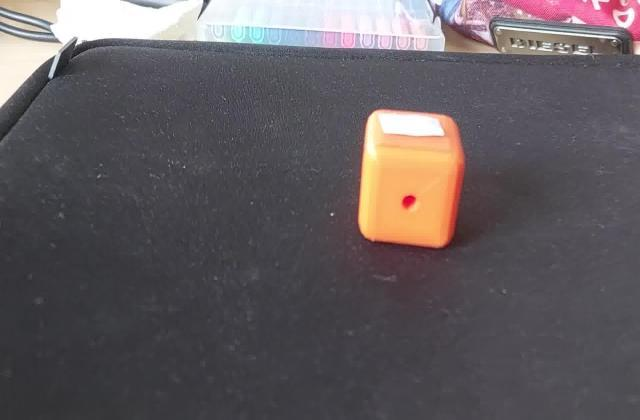cube: (354, 104, 466, 251)
white: (376, 111, 448, 146)
